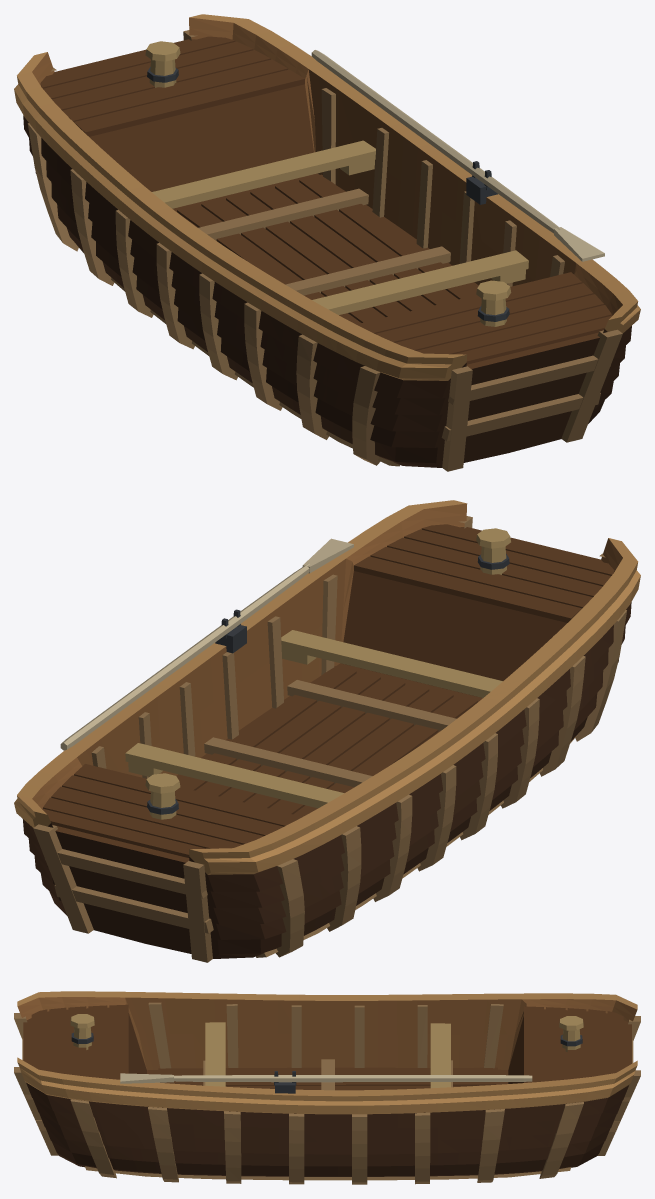
Rendered from barge.glb.
The picture shows the model from 3 angles, top to bottom: view 1: azimuth 30°, elevation 25°; view 2: azimuth 150°, elevation 25°; view 3: azimuth 270°, elevation 25°; orthographic projection. The views are drawn at different scales.
Visible parts, largest first — view 1: hull; view 2: hull; view 3: hull.
Boxes of the visible parts, bbox=[...] form: hull: bbox=[14, 14, 640, 471]; hull: bbox=[14, 500, 640, 962]; hull: bbox=[14, 991, 640, 1184].
Size of the model in its own units: 2.8 by 1.53 by 7.03.
